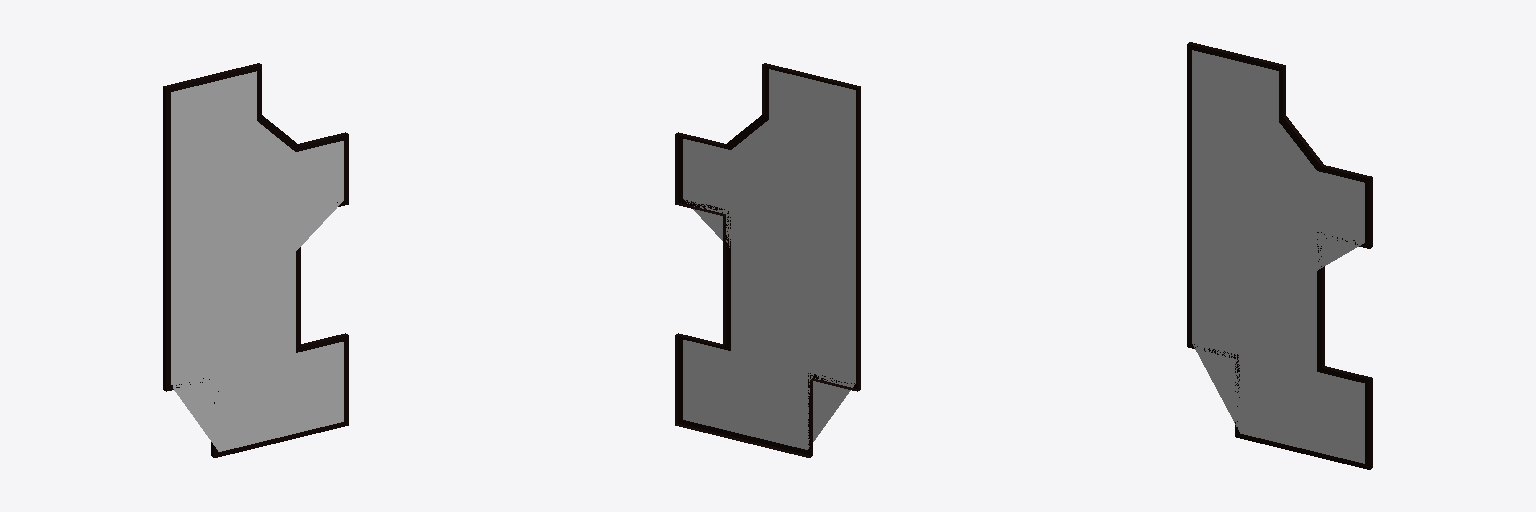
Rendered from mainBuilding_floor.obj.
3 renders of one model, left to right at view 1: azimuth 30°, elevation 25°; view 2: azimuth 150°, elevation 25°; view 3: azimuth 330°, elevation 25°, orthographic.
Visible parts, largest first — view 1: Floor_Plane.005; view 2: Floor_Plane.005; view 3: Floor_Plane.005.
Part boxes in pixels (bbox=[...]): Floor_Plane.005: bbox=[163, 63, 348, 457]; Floor_Plane.005: bbox=[675, 63, 860, 457]; Floor_Plane.005: bbox=[1187, 42, 1372, 469].
Size of the model in its own units: 19 by 38 by 0.5.